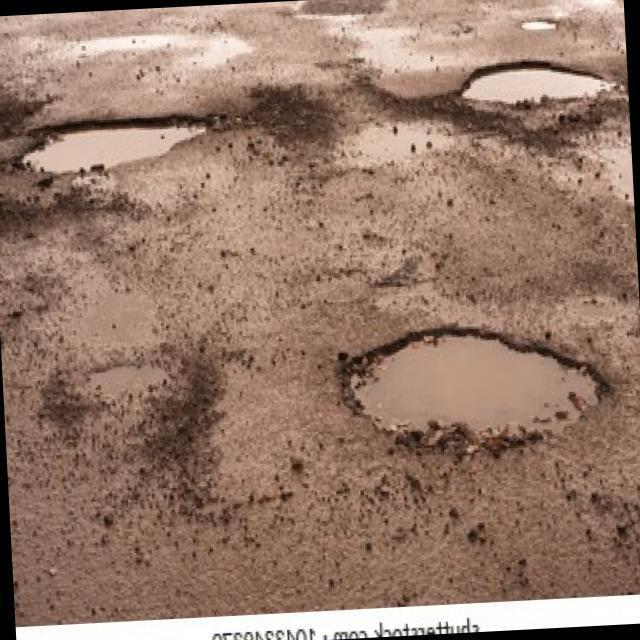pothole: (339, 322, 614, 457), (11, 112, 218, 181), (458, 55, 619, 109), (522, 17, 559, 33)
